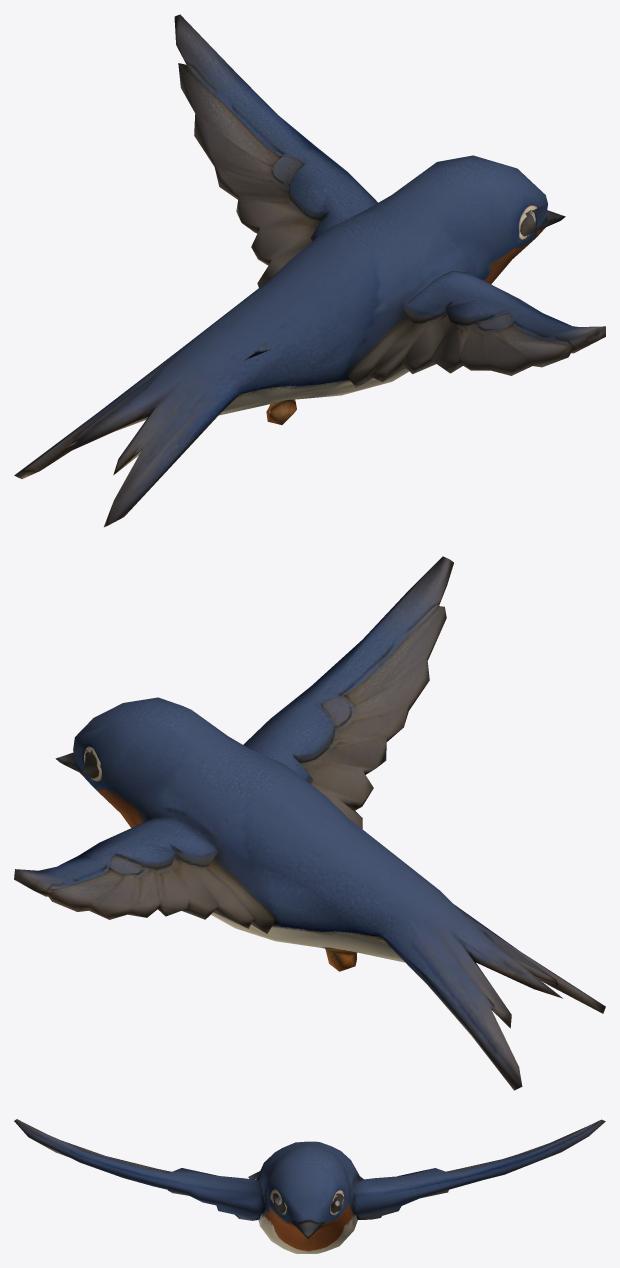
The model's file is toad-thing-swallows.glb.
3 views of the same model, one above another, from view 1: azimuth 30°, elevation 25°; view 2: azimuth 150°, elevation 25°; view 3: azimuth 270°, elevation 25° (orthographic). The views are drawn at different scales.
Visible parts, largest first — view 1: lo; view 2: lo; view 3: lo.
Part boxes in pixels (x1=…): lo: x1=14, y1=14, x2=605, y2=527; lo: x1=14, y1=556, x2=605, y2=1090; lo: x1=14, y1=1119, x2=605, y2=1253.
Size of the model in its own units: 0.2463 by 0.1219 by 0.3612.
Materials: 1 (1 with a texture image).
